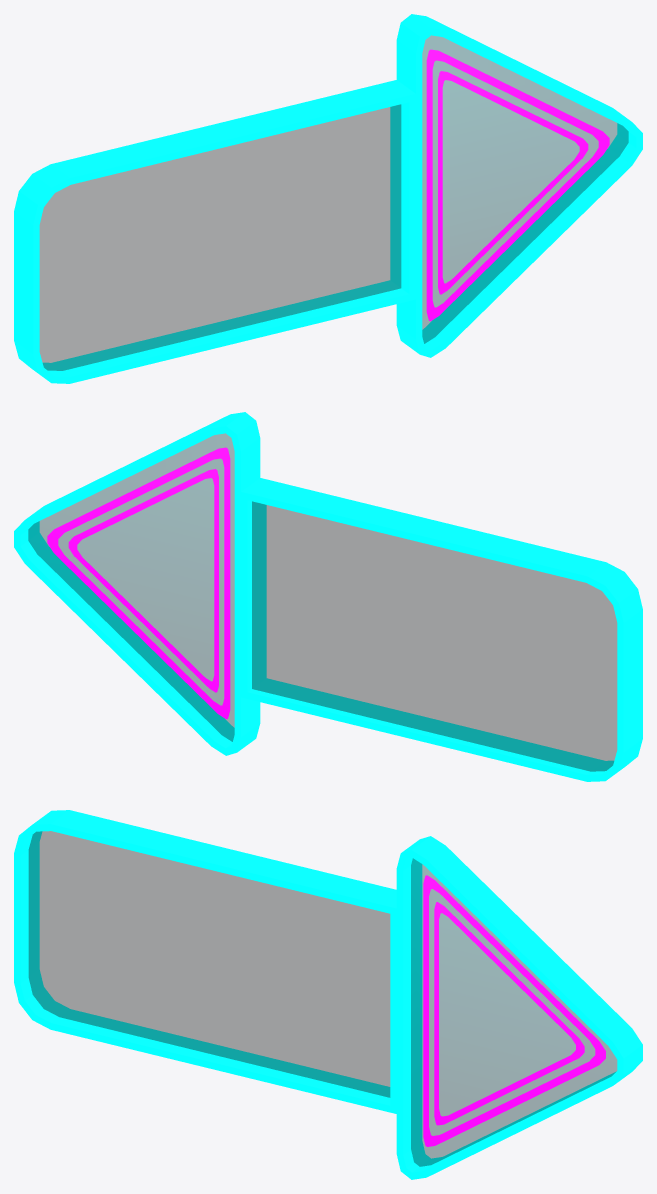
The model's file is Sign_Arrow.glb.
The picture shows the model from 3 angles, top to bottom: view 1: azimuth 30°, elevation 25°; view 2: azimuth 150°, elevation 25°; view 3: azimuth 330°, elevation 25°; orthographic projection.
Visible parts, largest first — view 1: SciFi_SignArrow; view 2: SciFi_SignArrow; view 3: SciFi_SignArrow.
Boxes of the visible parts, bbox=[...] form: SciFi_SignArrow: bbox=[14, 14, 642, 383]; SciFi_SignArrow: bbox=[14, 412, 642, 781]; SciFi_SignArrow: bbox=[14, 810, 642, 1179].
Size of what is drawn, in the model's own units: 1.43 by 0.7395 by 0.0779.
Materials: 2 (2 with a texture image).
